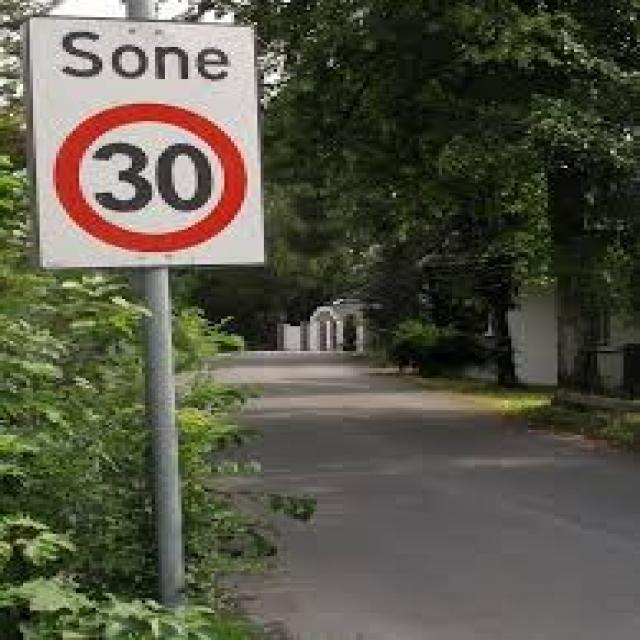speed_limit_30: (43, 100, 260, 272)
